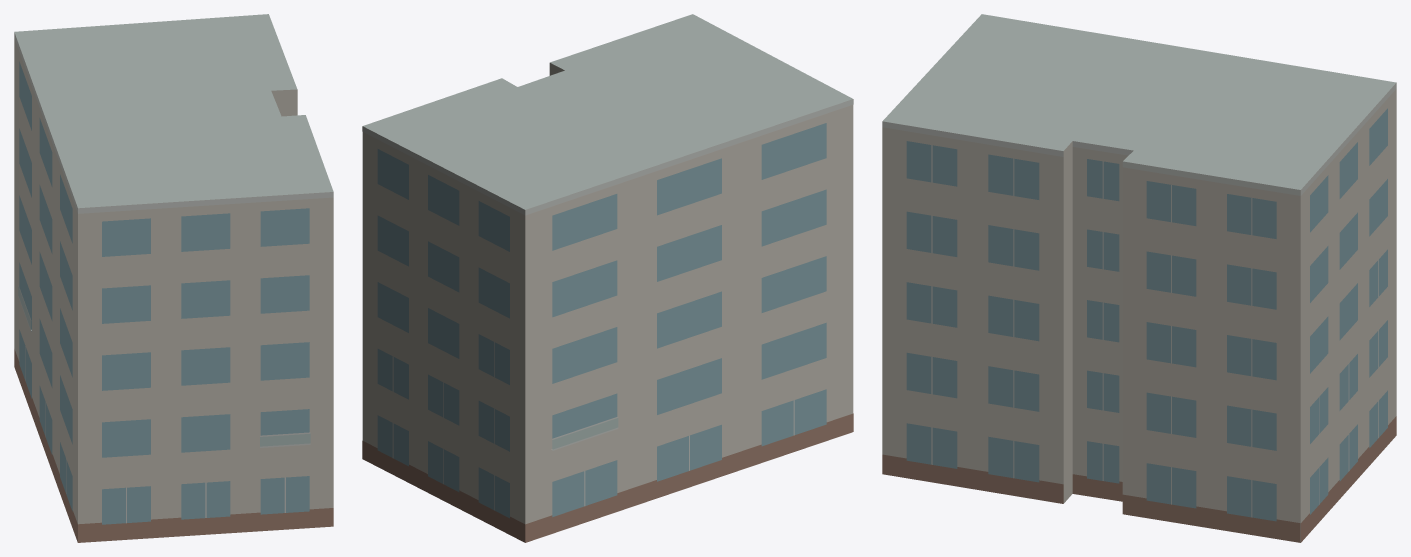
Rendered from survey-upis-33045064.glb.
3 views of the same model, side by side, from view 1: azimuth 30°, elevation 25°; view 2: azimuth 150°, elevation 25°; view 3: azimuth 270°, elevation 25° (orthographic). The views are drawn at different scales.
Visible parts, largest first — view 1: survey-upis-33045064.tmp; view 2: survey-upis-33045064.tmp; view 3: survey-upis-33045064.tmp.
Boxes of the visible parts, x1,y1,x2,y2 form: survey-upis-33045064.tmp: (14, 14, 333, 542); survey-upis-33045064.tmp: (362, 14, 853, 542); survey-upis-33045064.tmp: (882, 14, 1396, 542).
Size of the model in its own units: 15.52 by 14.5 by 19.16.
